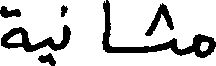ا: (102, 0, 111, 54)
ة: (0, 3, 27, 51)
ث: (144, 0, 175, 54)
م: (192, 32, 214, 59)
ن: (60, 2, 69, 50)
ي: (36, 35, 53, 64)
